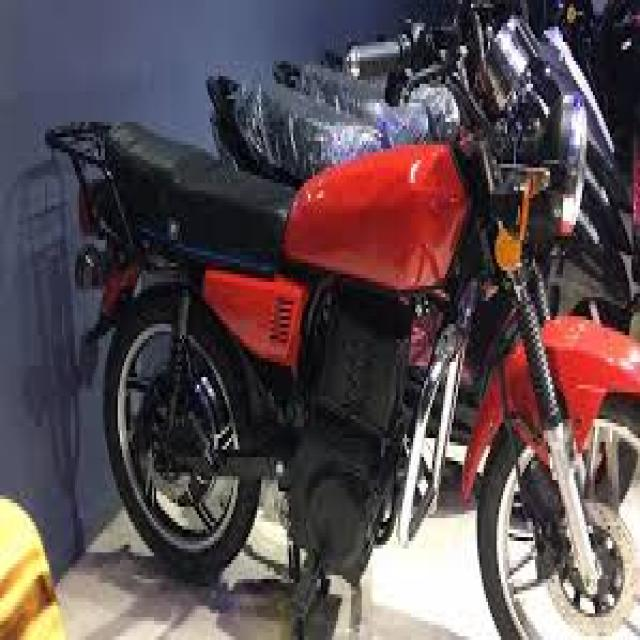bodaboda: (21, 5, 640, 640)
